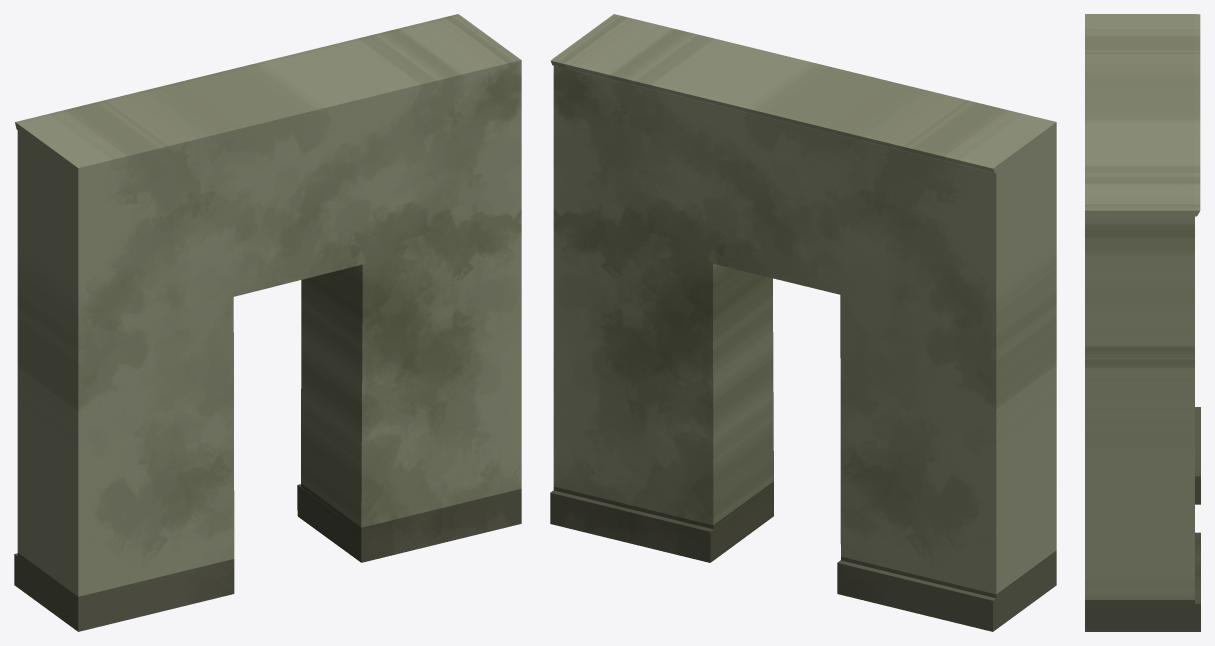
Rendered from Wall_3_M_Door.fbx.
3 renders of one model, left to right at view 1: azimuth 30°, elevation 25°; view 2: azimuth 150°, elevation 25°; view 3: azimuth 270°, elevation 25°, orthographic. The views are drawn at different scales.
Parts seen in each view (by area): view 1: Wall_3_M_Door; view 2: Wall_3_M_Door; view 3: Wall_3_M_Door.
Part boxes in pixels (<box>): Wall_3_M_Door: <box>14,14,521,631</box>; Wall_3_M_Door: <box>550,14,1056,631</box>; Wall_3_M_Door: <box>1085,14,1200,631</box>.
Size of the model in its own units: 4 by 4 by 0.9977.
